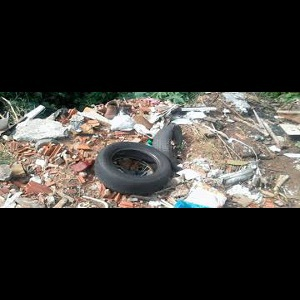tire: (94, 143, 173, 198)
